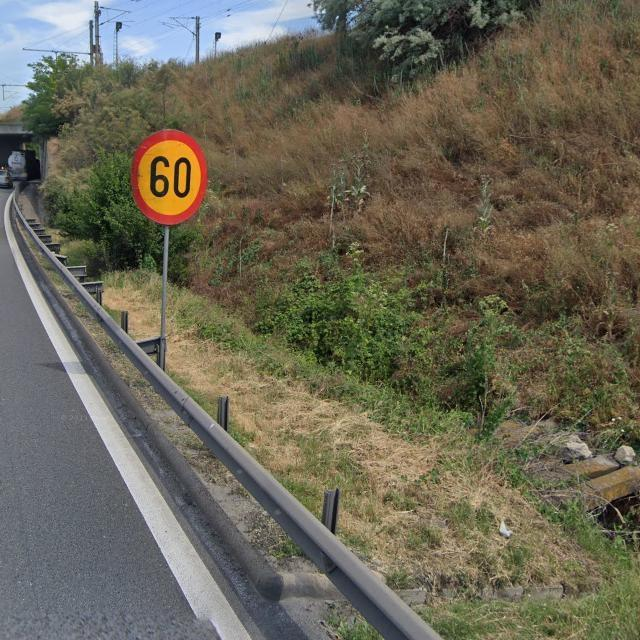forb_speed_over_60: (129, 131, 208, 228)
